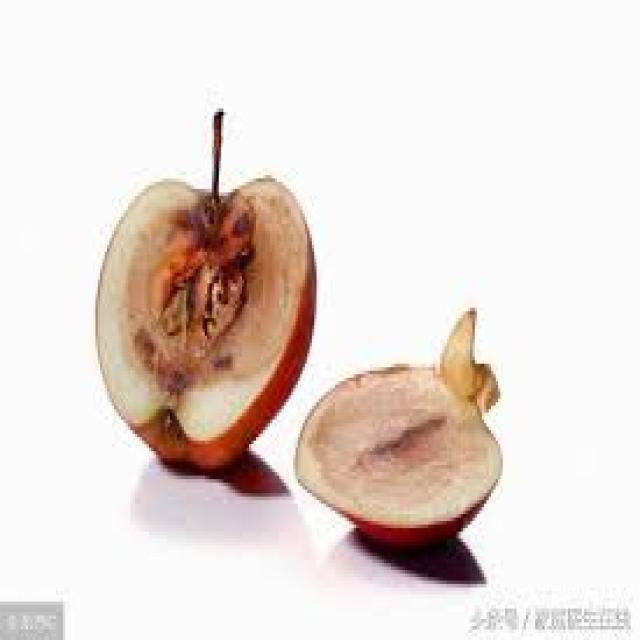organic waste: (93, 105, 314, 469), (293, 308, 503, 549)
